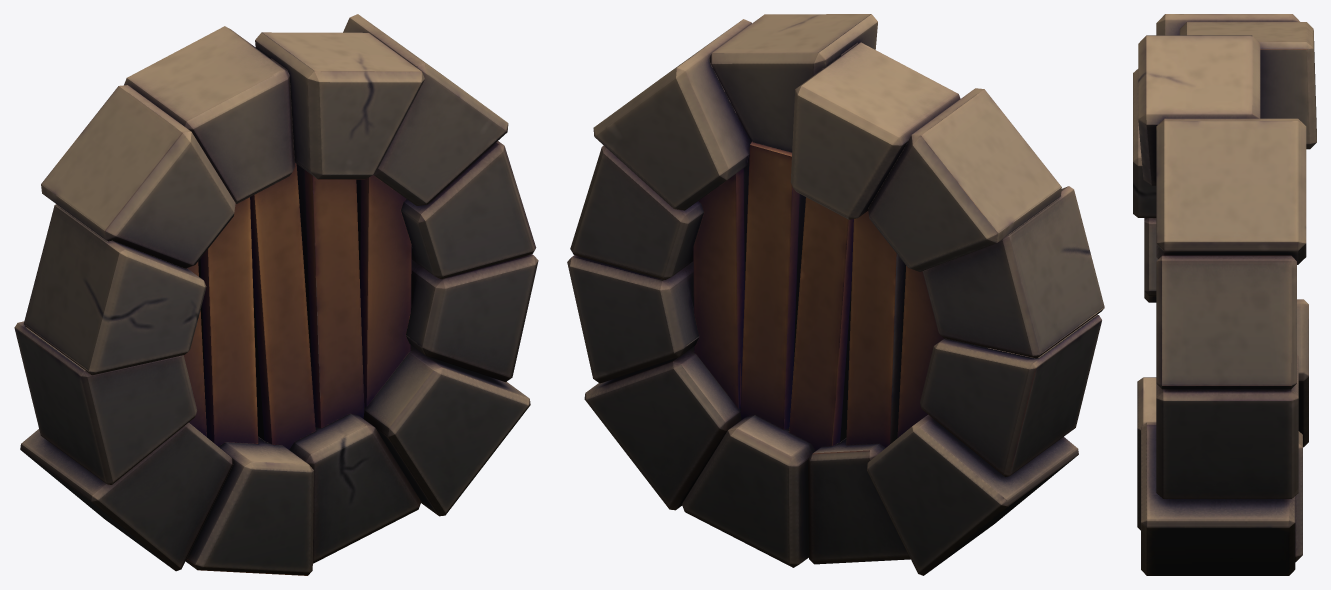
The model's file is DoorRoundStone.dae.
3 views of the same model, side by side, from view 1: azimuth 30°, elevation 25°; view 2: azimuth 150°, elevation 25°; view 3: azimuth 270°, elevation 25° (orthographic).
Parts seen in each view (by area): view 1: Circle_064; view 2: Circle_064; view 3: Circle_064.
Boxes of the visible parts, x1=… form: Circle_064: x1=14, y1=14, x2=538, y2=575; Circle_064: x1=567, y1=14, x2=1104, y2=575; Circle_064: x1=1133, y1=14, x2=1316, y2=575.
Size of the model in its own units: 2.97 by 1.02 by 3.06.
Materials: 1 (1 with a texture image).
